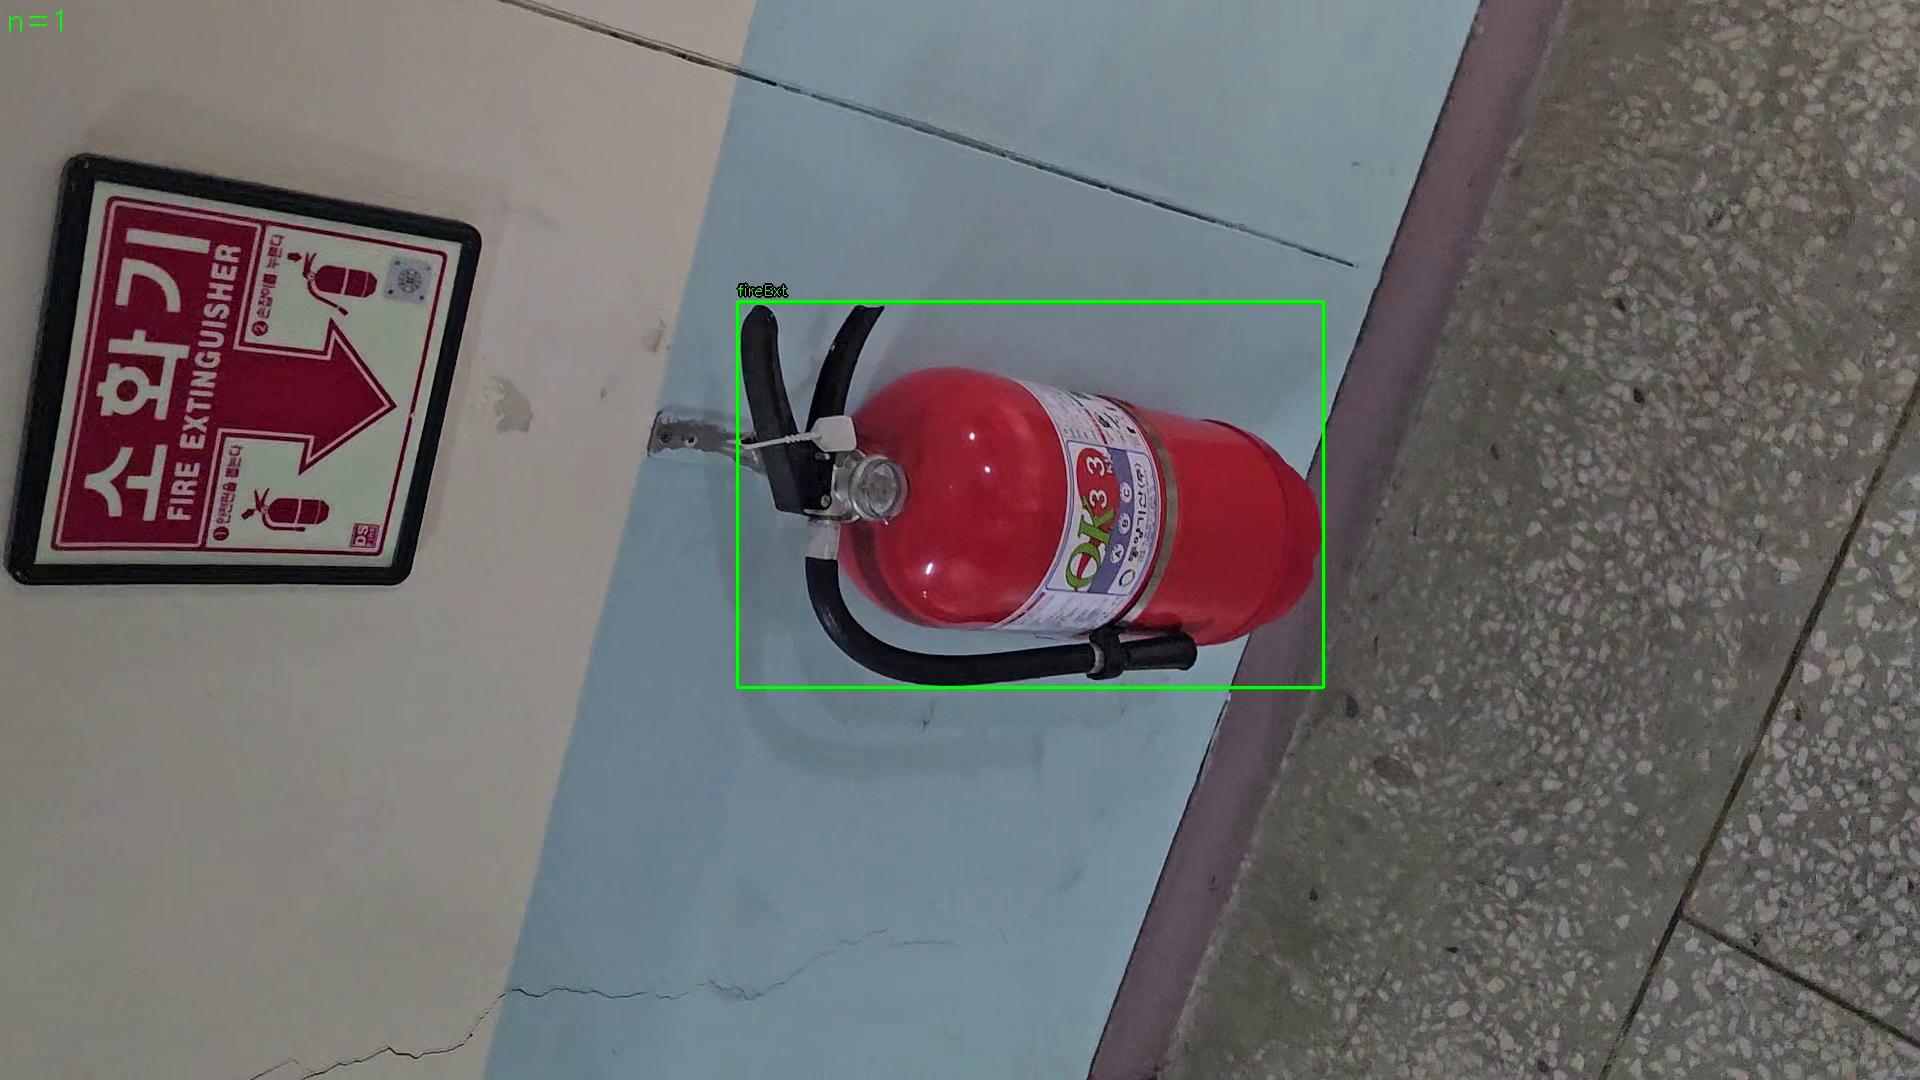lane: (737, 301, 1324, 688)
